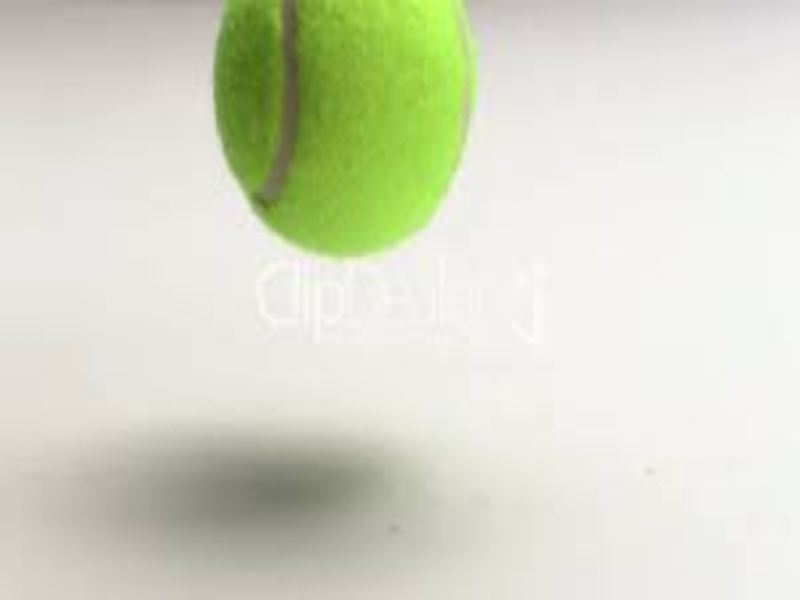tennis ball: (193, 1, 498, 274)
